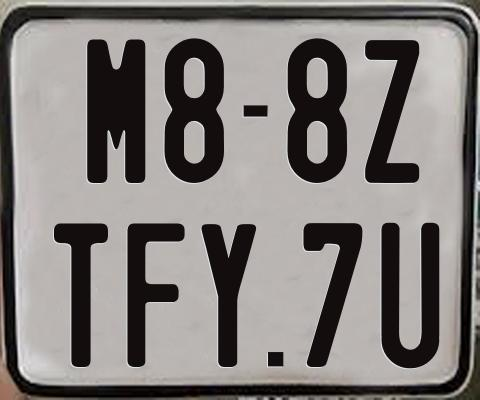7: (302, 222, 362, 367)
8: (161, 37, 226, 187), (287, 37, 352, 187)
F: (126, 221, 189, 371)
M: (86, 37, 147, 184)
T: (53, 221, 112, 370)
U: (379, 220, 442, 367)
Y: (200, 221, 259, 369)
Z: (363, 37, 421, 185)
